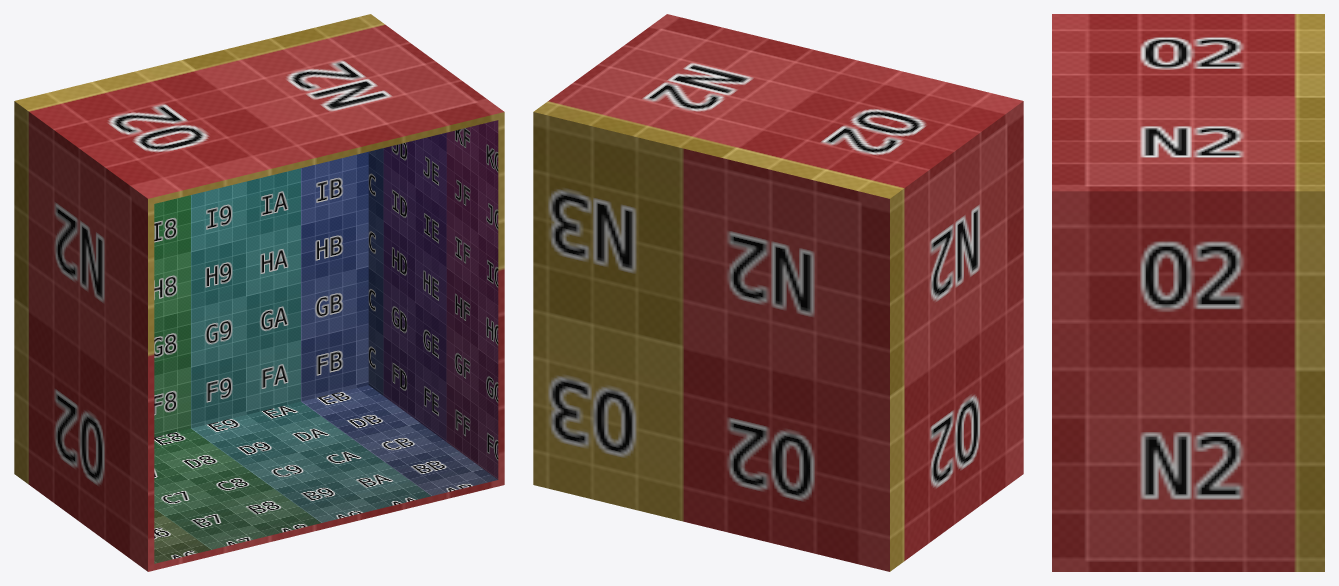
File: antique.gltf
The picture shows the model from 3 angles, left to right: view 1: azimuth 30°, elevation 25°; view 2: azimuth 150°, elevation 25°; view 3: azimuth 270°, elevation 25°; orthographic projection. The views are drawn at different scales.
Parts seen in each view (by area): view 1: stage; view 2: stage; view 3: stage.
Part boxes in pixels (left/top/right/bottom): stage: left=14, top=14, right=504, bottom=571; stage: left=533, top=14, right=1023, bottom=571; stage: left=1052, top=14, right=1324, bottom=571.
Bounding box in the file's own units: 2 × 2 × 1.3.
1 material, 1 textured.
